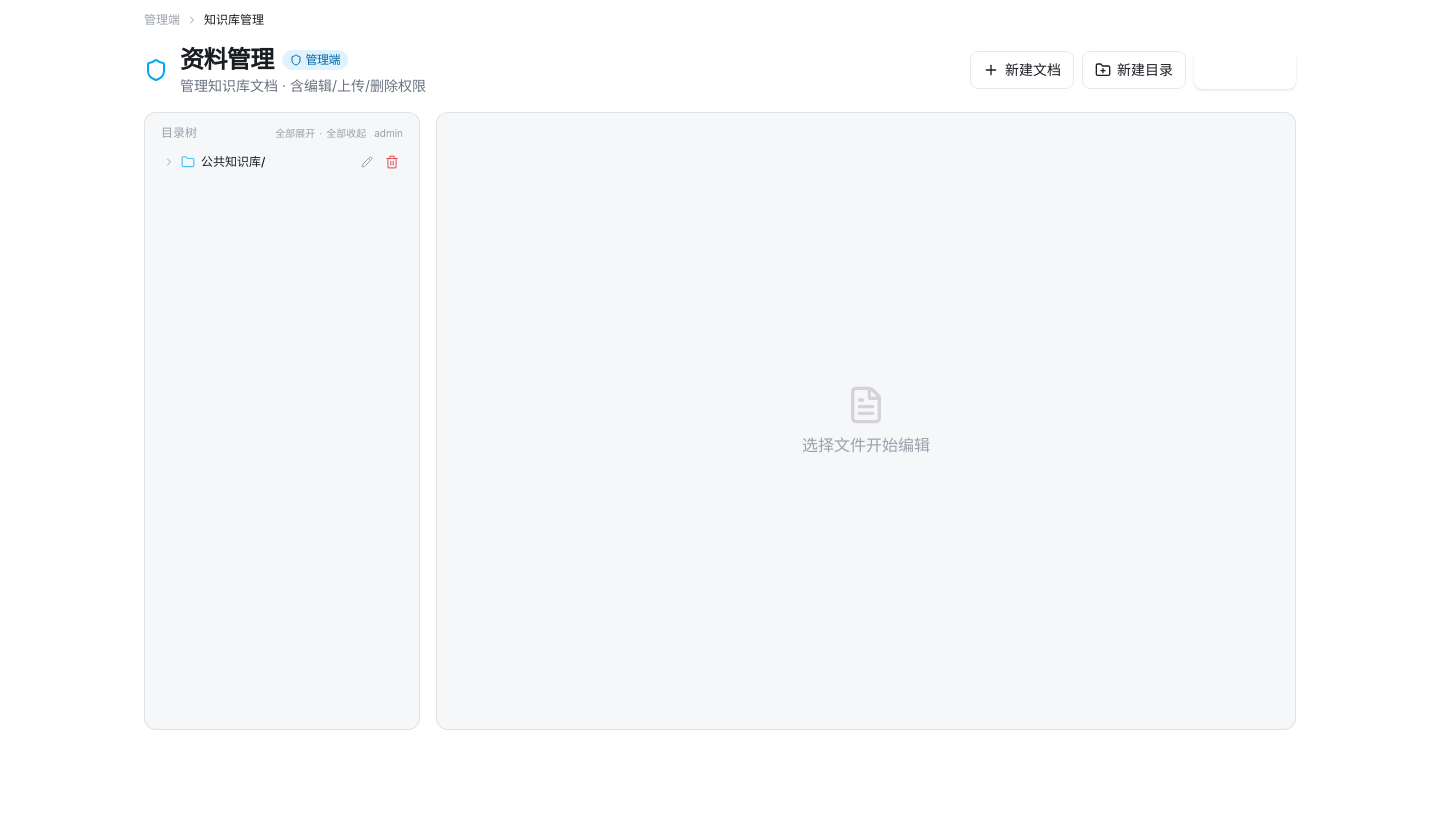
知识库删除入口 › 文件夹行同样有带名字的删除入口
Click the button "全部展开": (295, 133) x1=275 y1=126 x2=315 y2=140
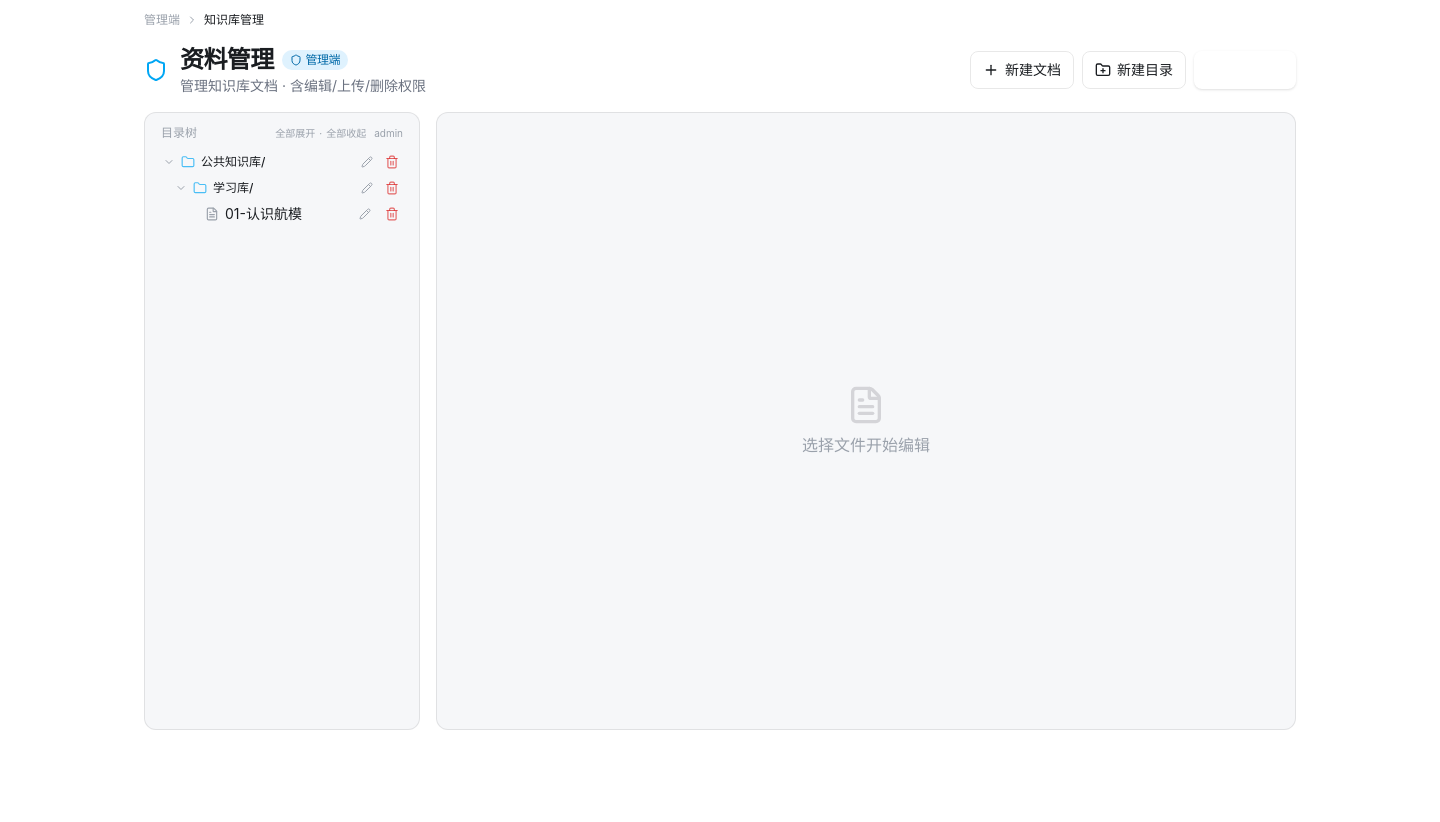
Expected: the button named "删除文件夹 学习库" is shown, x1=381 y1=177 x2=403 y2=199
Expected: the button named "重命名文件夹 学习库" is shown, x1=357 y1=178 x2=377 y2=198
